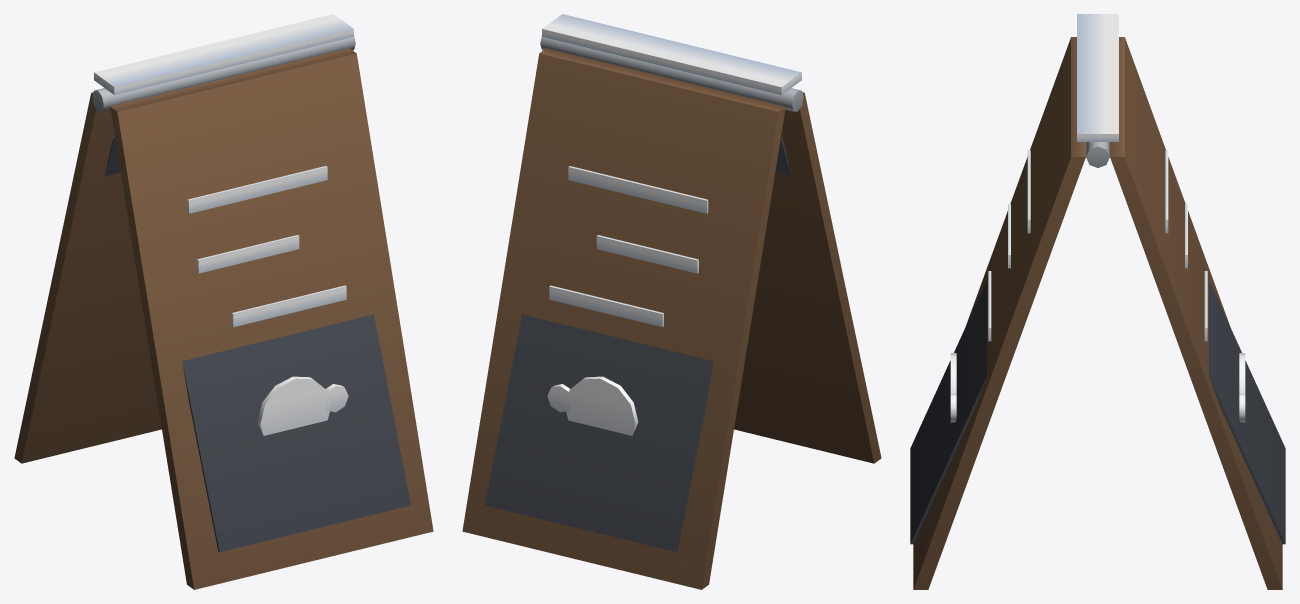
Rendered from ck_sandwich_board.fbx.
3 renders of one model, left to right at view 1: azimuth 30°, elevation 25°; view 2: azimuth 150°, elevation 25°; view 3: azimuth 270°, elevation 25°, orthographic. The views are drawn at different scales.
Visible parts, largest first — view 1: ck_sandwich_board; view 2: ck_sandwich_board; view 3: ck_sandwich_board.
Part boxes in pixels (left/top/right/bottom): ck_sandwich_board: left=14, top=14, right=433, bottom=589; ck_sandwich_board: left=462, top=14, right=881, bottom=589; ck_sandwich_board: left=910, top=14, right=1285, bottom=589.
Bounding box in the file's own units: 202 × 340 × 253.
